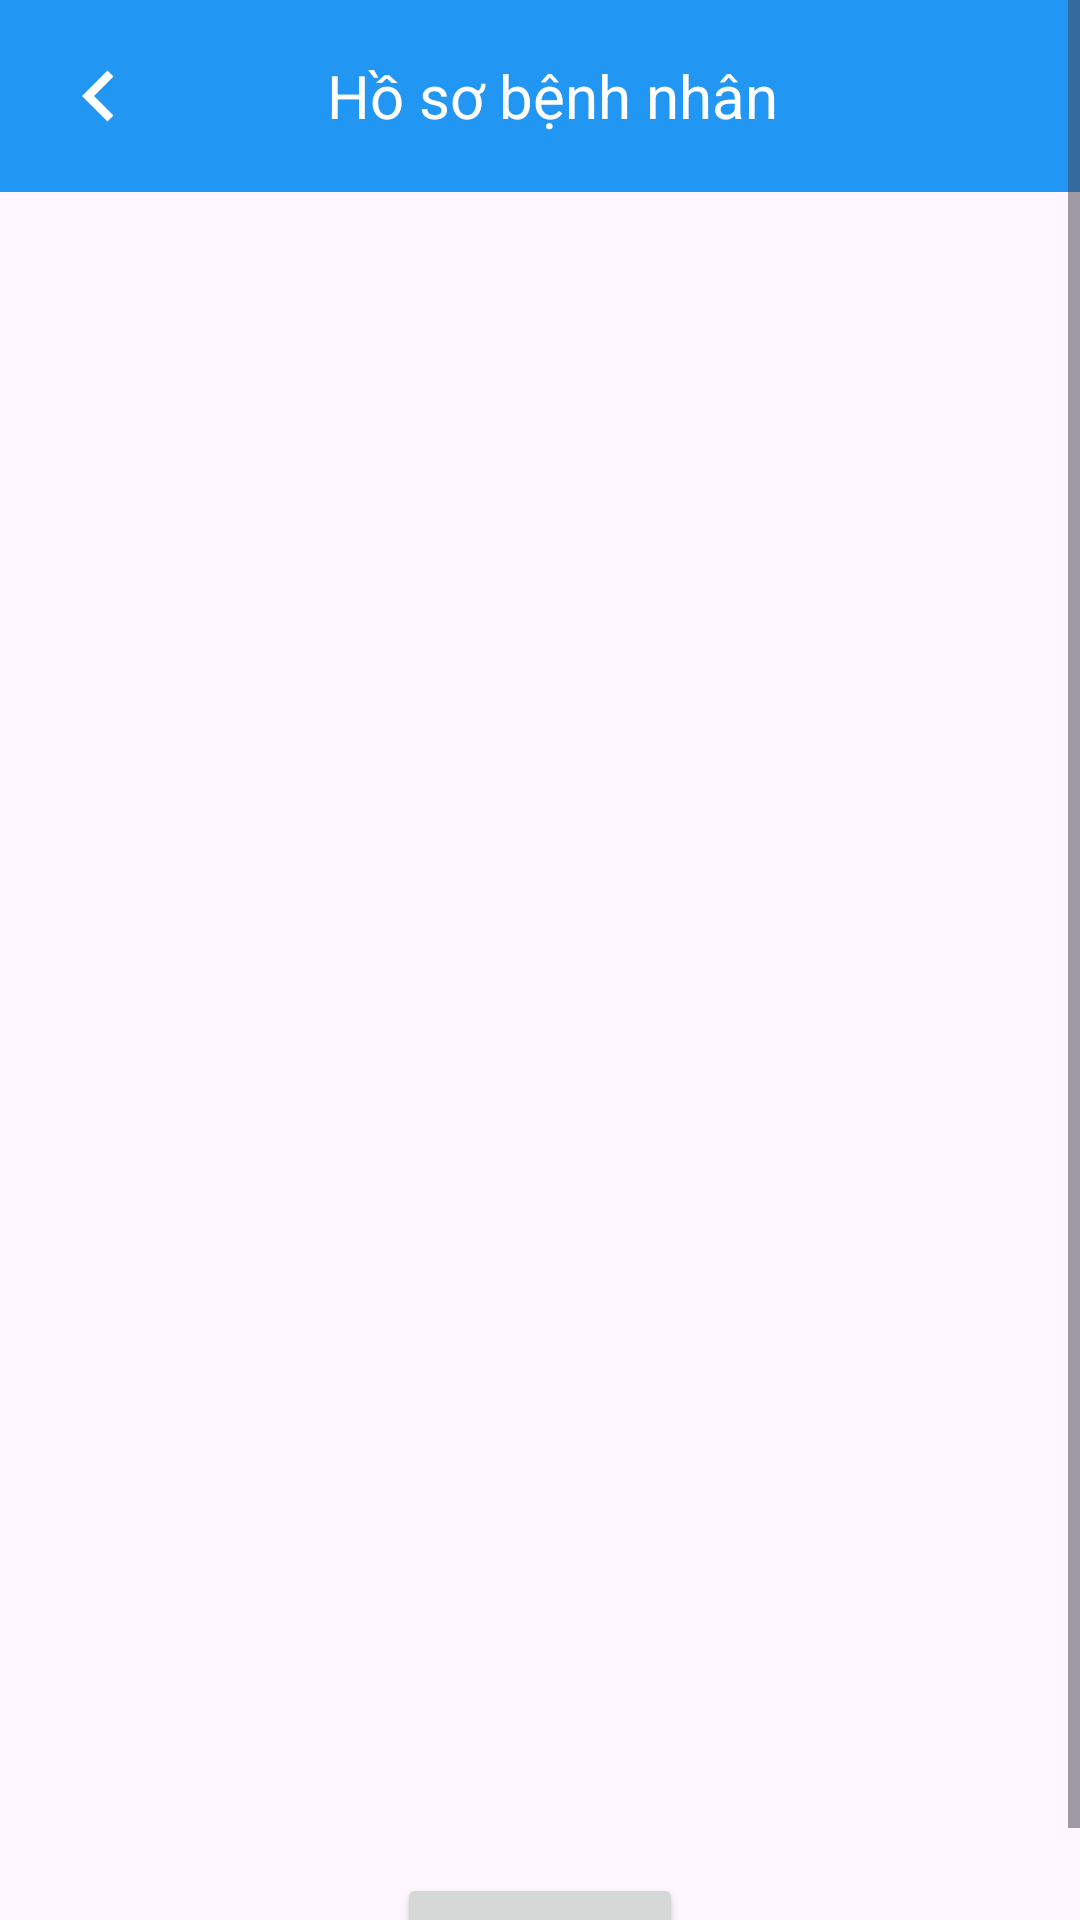

Point at icon controls on the screen. Image size 1080w x 1920h, points as point (x, y).
Quay lại: point (98, 96)
